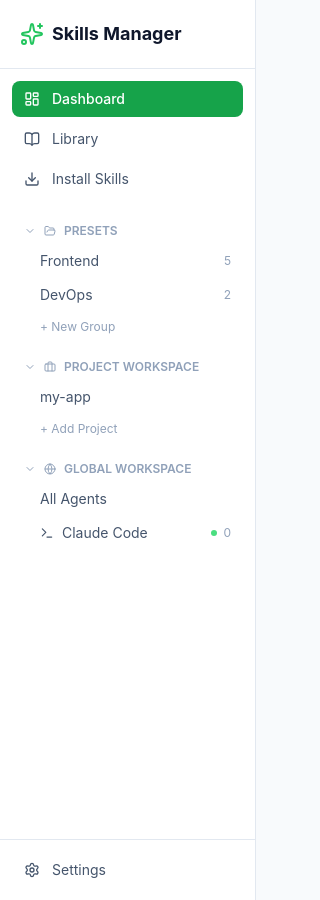
Scenario: Sidebar › collapses presets section on click
The width and height of the screenshot is (320, 900).
expect the text "Frontend" is shown: met, box [40,251,99,271]
Click the button "Presets" at (128, 231), box [12,217,243,245]
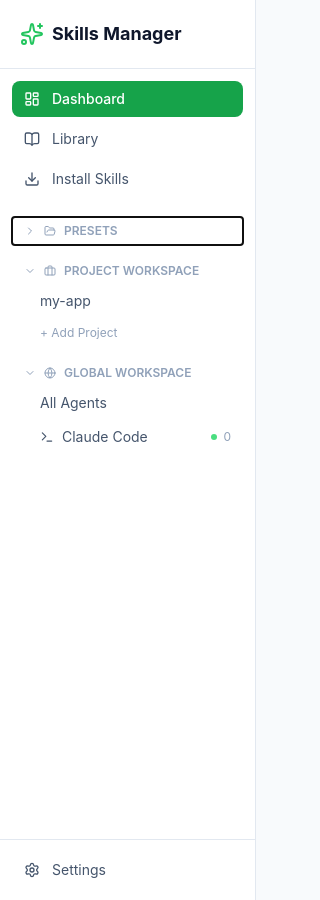
expect the link "Frontend" is gone: met
